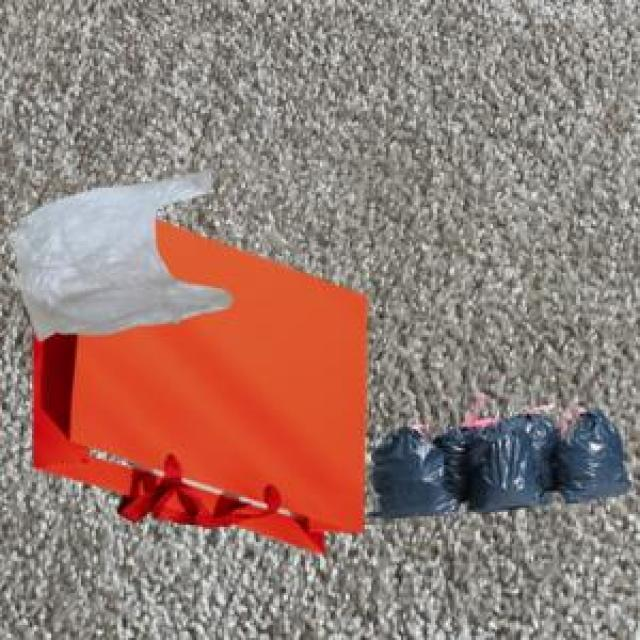miscellaneous trash: (363, 403, 629, 514)
paper: (30, 216, 363, 550)
